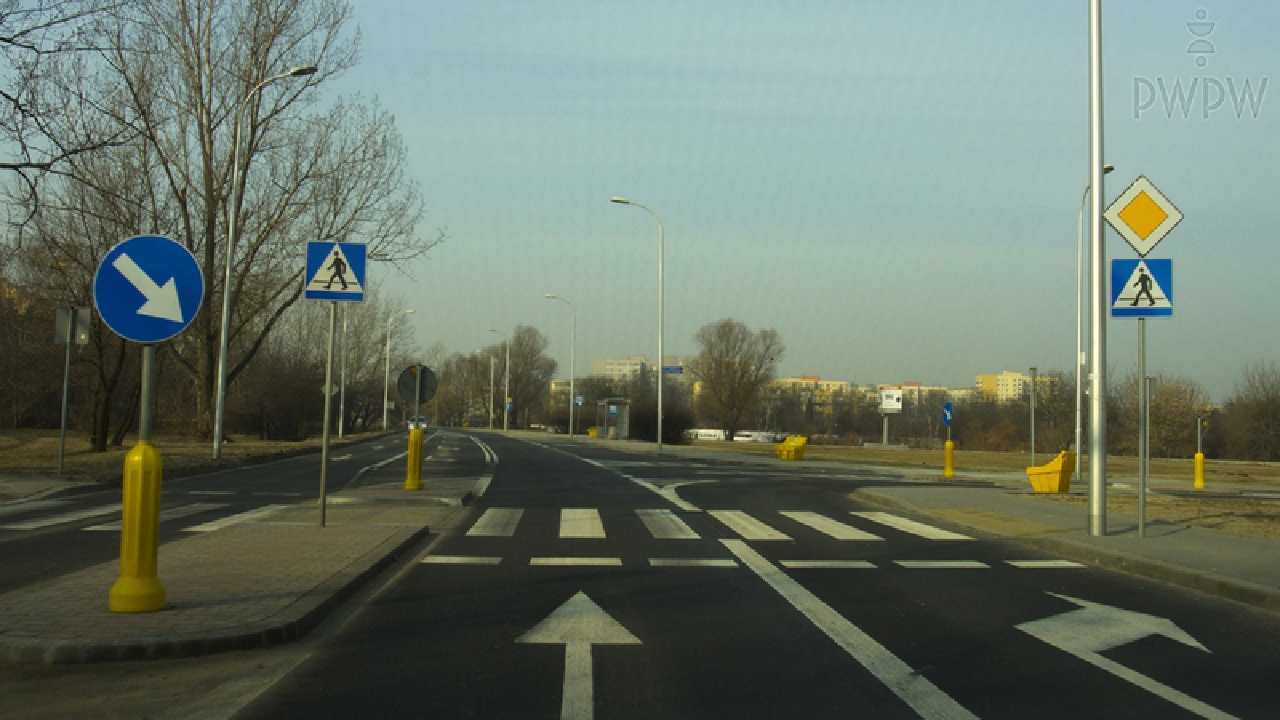C9: (92, 234, 206, 343)
D1: (1102, 175, 1183, 256)
D6: (1111, 259, 1172, 318), (307, 241, 365, 301)
